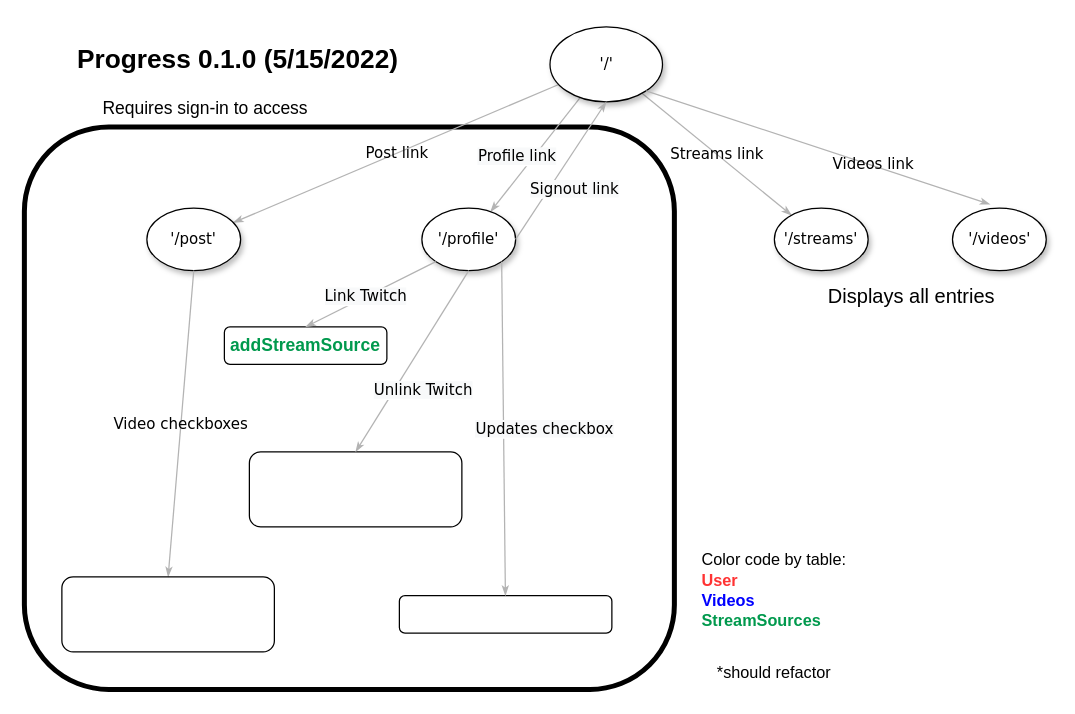
This 1075x714 diagram has some shape labels left out. The centre of each missing label's shape, as x and y in pixels:
*removeVideosByUser *addVideos updateRemainingVideos: the point at 167,614
removeStreamSource *removeVideosByUser updateRemainingVideos: the point at 355,489
updateReceiveUpdates: the point at 505,613
